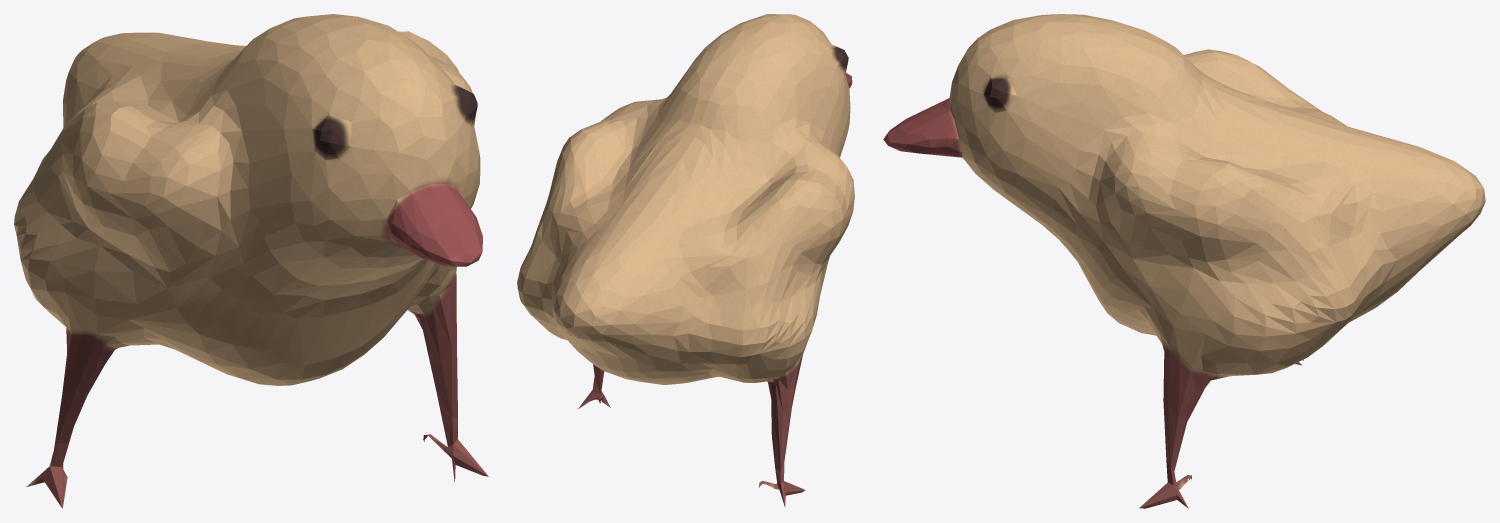
The model's file is chicken7.obj.
3 renders of one model, left to right at view 1: azimuth 30°, elevation 25°; view 2: azimuth 150°, elevation 25°; view 3: azimuth 270°, elevation 25°, orthographic. The views are drawn at different scales.
Visible parts, largest first — view 1: TRYout:Group36674_Group36674; view 2: TRYout:Group36674_Group36674; view 3: TRYout:Group36674_Group36674.
Part boxes in pixels (x1=…): TRYout:Group36674_Group36674: x1=14, y1=14, x2=488, y2=508; TRYout:Group36674_Group36674: x1=517, y1=14, x2=854, y2=507; TRYout:Group36674_Group36674: x1=883, y1=14, x2=1485, y2=508.
Size of the model in its own units: 3.74 by 4.82 by 6.22.
1 material, 1 textured.
